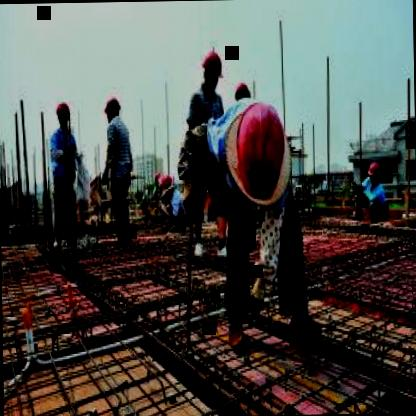helmet: (222, 100, 292, 210), (200, 47, 224, 98), (233, 77, 256, 103), (54, 100, 73, 131), (103, 96, 122, 122), (367, 160, 383, 186)
